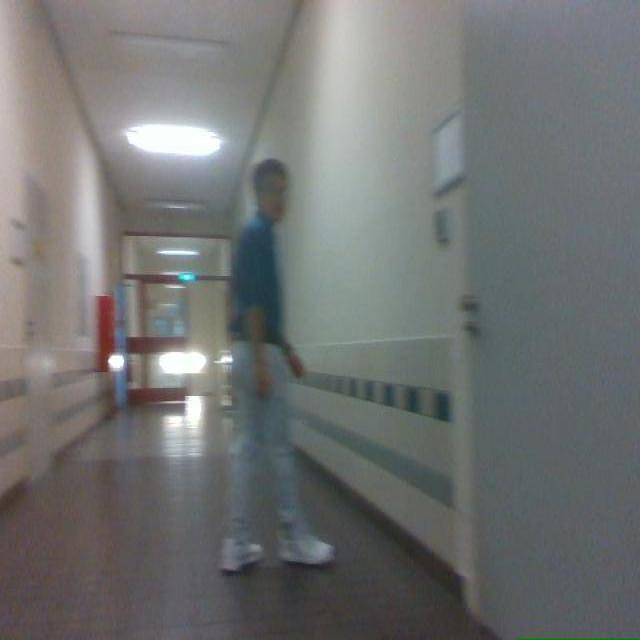humans: (221, 159, 334, 572)
